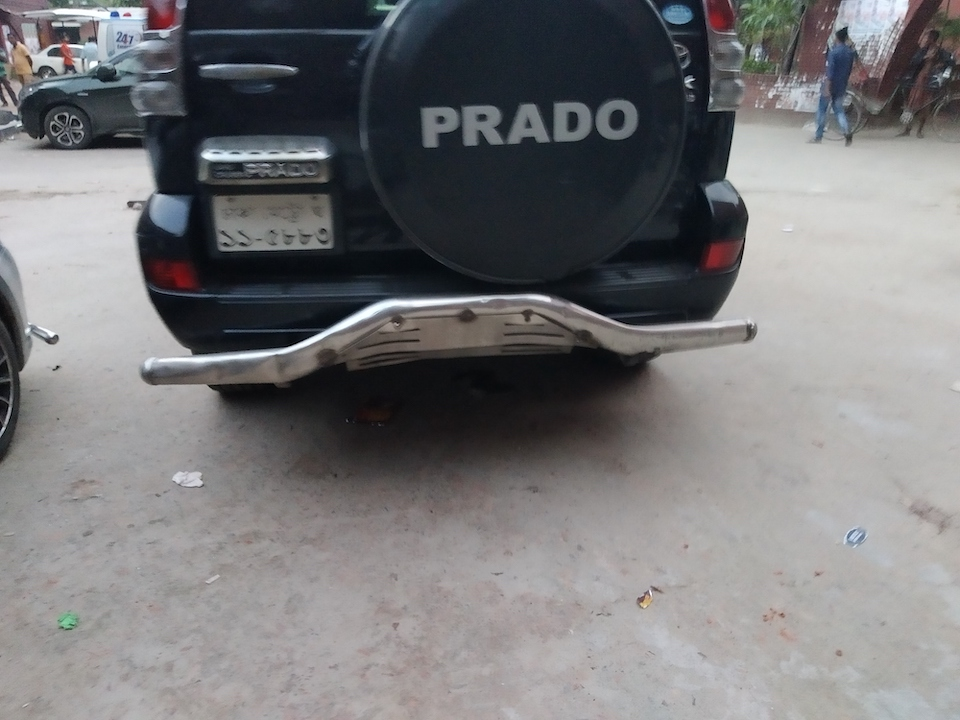registration_plate: (210, 192, 335, 252)
